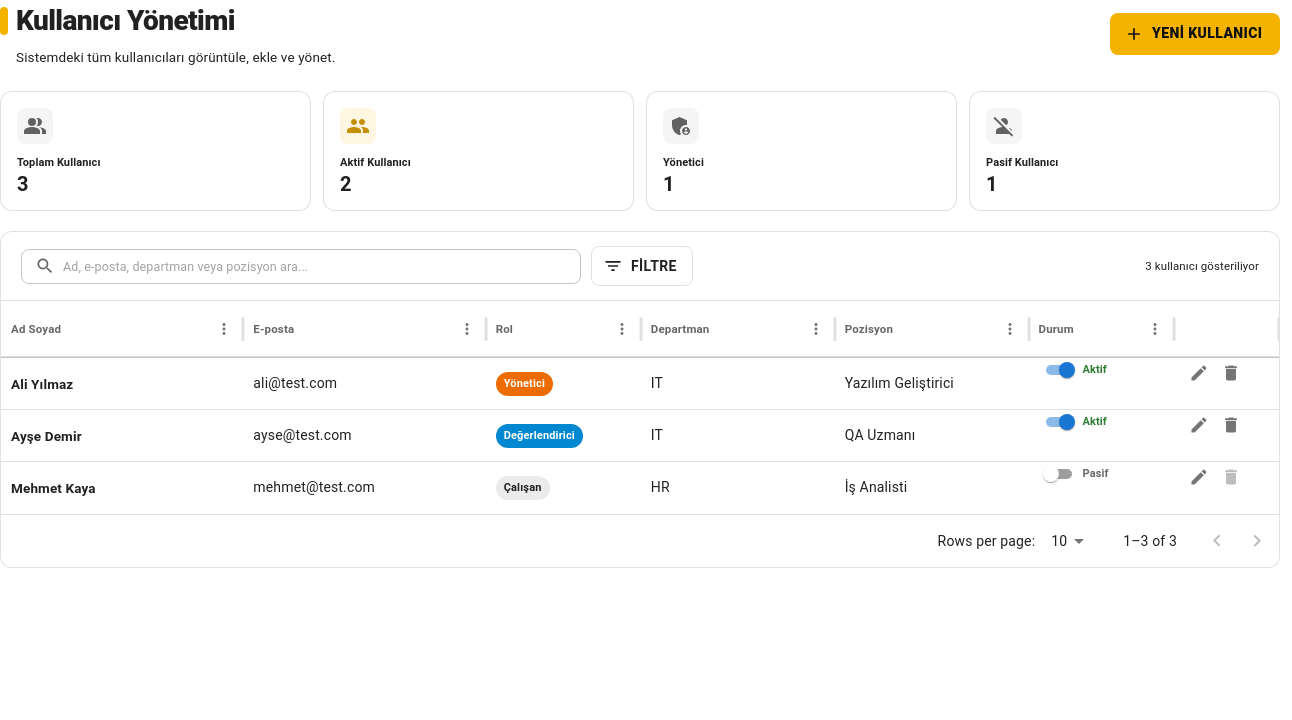
Test: UsersPage › departman üzerinden arama yapmalı
Expected: the text "Ali Yılmaz" is shown, [11,374,73,394]
Type "HR" into the field with placeholder "Ad, e-posta, departman veya pozisyon ara..." at coordinates (322, 266), box [63,249,581,284]
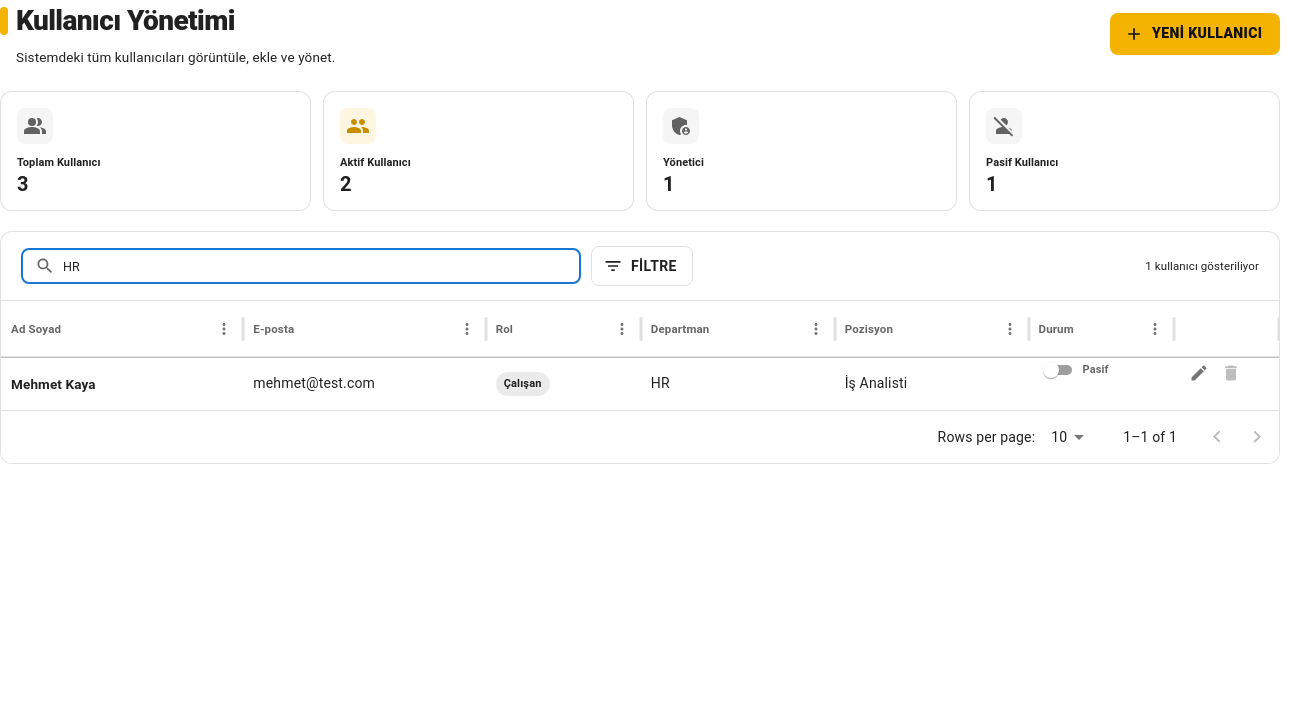
Expected: the text "Mehmet Kaya" is shown, [11,374,96,394]
Expected: the text "Ali Yılmaz" is gone
